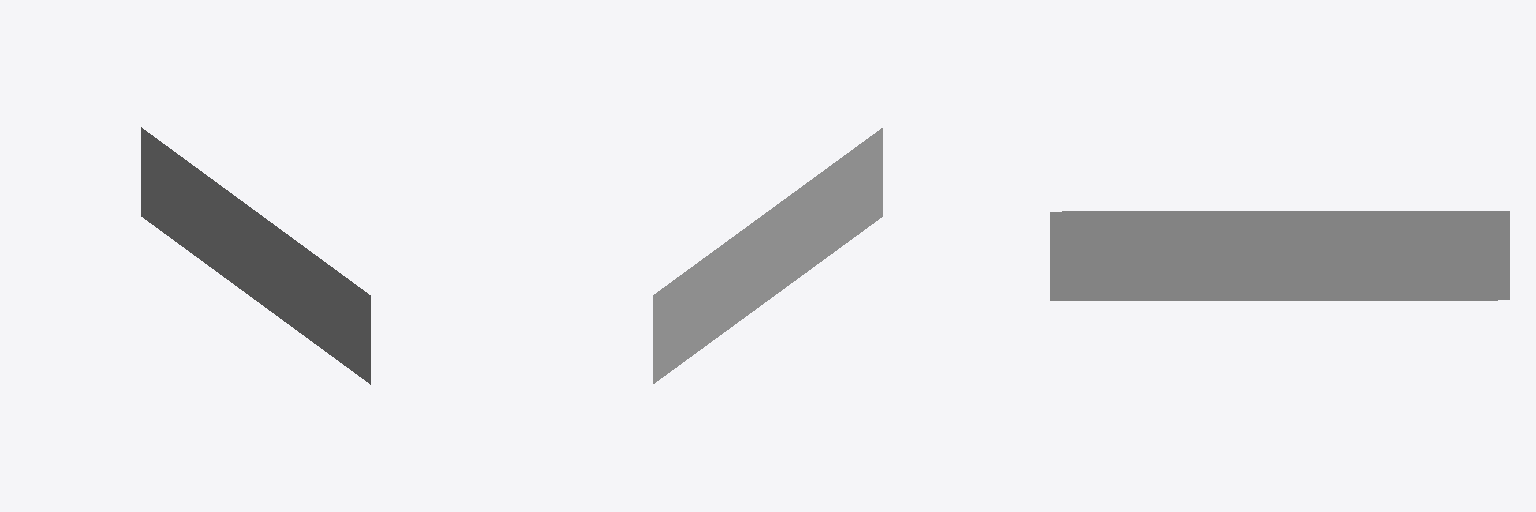
The model's file is x_maximas.obj.
3 renders of one model, left to right at view 1: azimuth 30°, elevation 25°; view 2: azimuth 150°, elevation 25°; view 3: azimuth 270°, elevation 25°, orthographic.
Bounding box in the file's own units: 0 × 4.52 × 21.04.